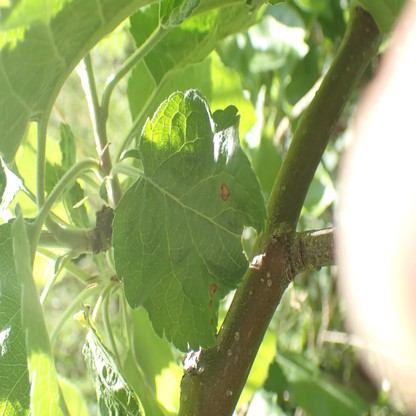frogeye_leaf_spot: (221, 183, 230, 201), (210, 283, 217, 296), (211, 317, 214, 329), (209, 301, 212, 310)
